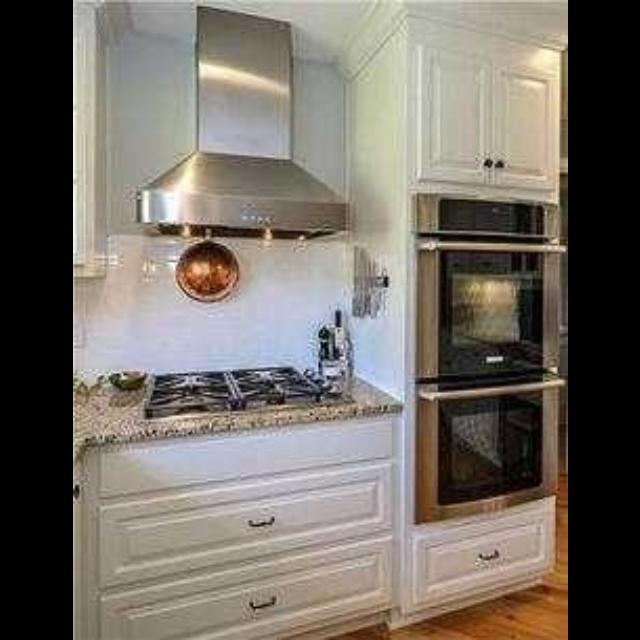Oven: (410, 191, 562, 371), (408, 373, 564, 527)
